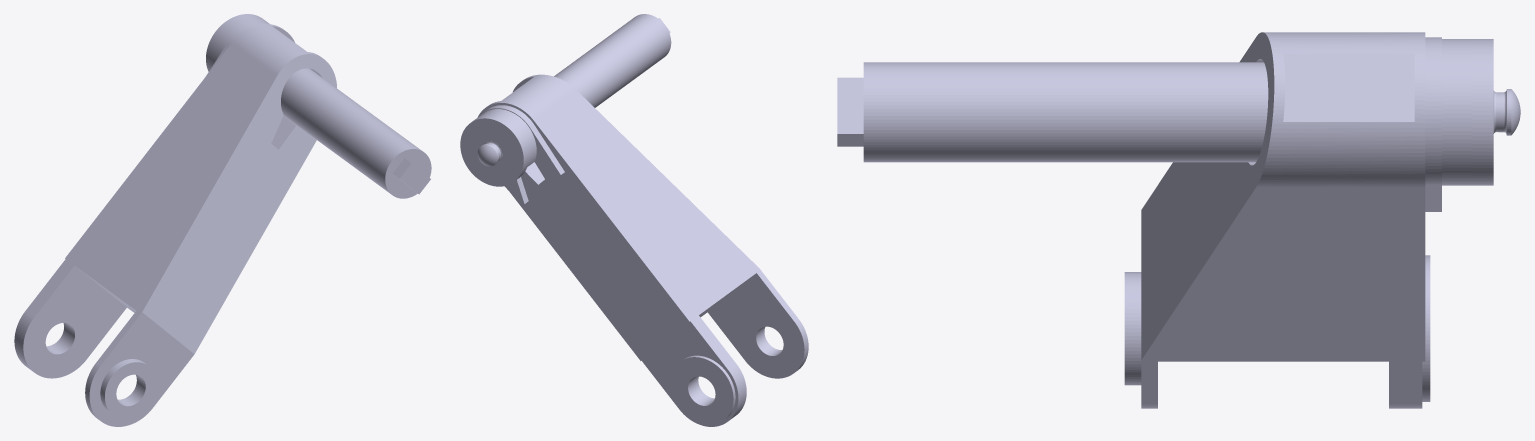
The model's file is BEAM_JACK_LEFT_FRONT.obj.
3 views of the same model, side by side, from view 1: azimuth 30°, elevation 25°; view 2: azimuth 150°, elevation 25°; view 3: azimuth 270°, elevation 25° (orthographic). The views are drawn at different scales.
Parts seen in each view (by area): view 1: HSC_1000HLX_BEAM_JACK_1_000_1-1000HLX_BEAM_JACK_024 (Meshed); view 2: HSC_1000HLX_BEAM_JACK_1_000_1-1000HLX_BEAM_JACK_024 (Meshed); view 3: HSC_1000HLX_BEAM_JACK_1_000_1-1000HLX_BEAM_JACK_024 (Meshed).
Boxes of the visible parts, <box> form: HSC_1000HLX_BEAM_JACK_1_000_1-1000HLX_BEAM_JACK_024 (Meshed): <box>14,14,431,426</box>; HSC_1000HLX_BEAM_JACK_1_000_1-1000HLX_BEAM_JACK_024 (Meshed): <box>460,14,808,426</box>; HSC_1000HLX_BEAM_JACK_1_000_1-1000HLX_BEAM_JACK_024 (Meshed): <box>837,32,1520,408</box>.
Bounding box in the file's own units: 912 × 912 × 1025.
